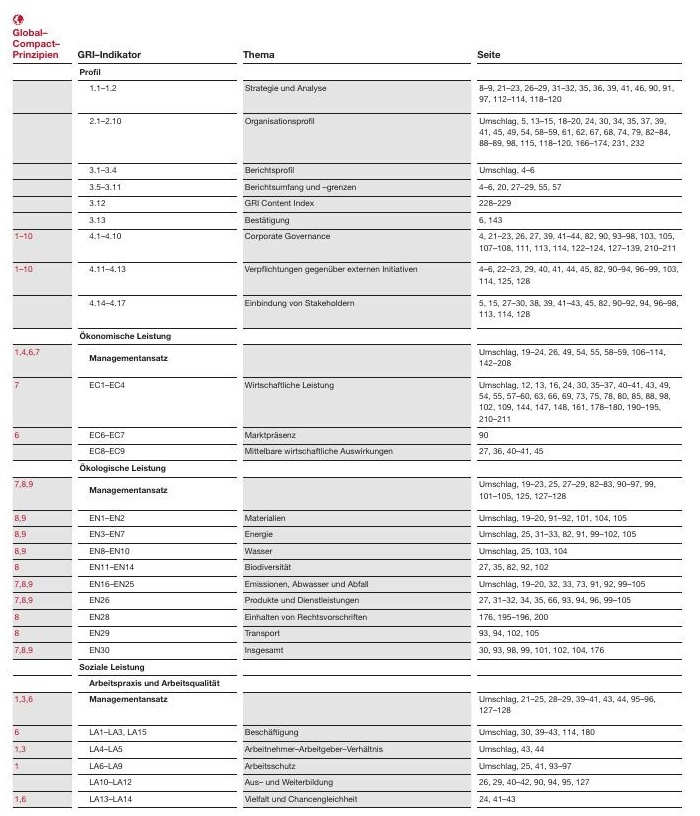table: (0, 0, 700, 816)
